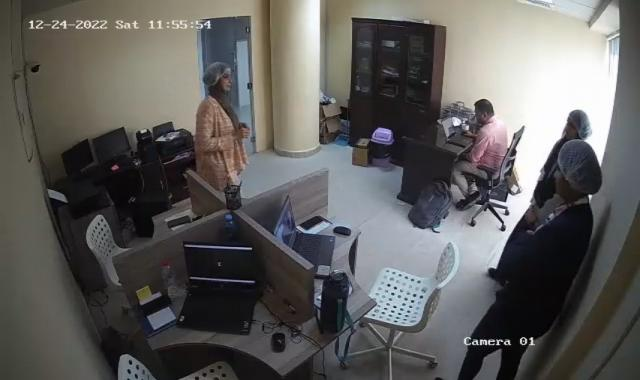hairnet: (554, 145, 600, 200), (561, 104, 592, 140), (202, 61, 233, 94)
no_hairnet: (472, 97, 494, 128)
